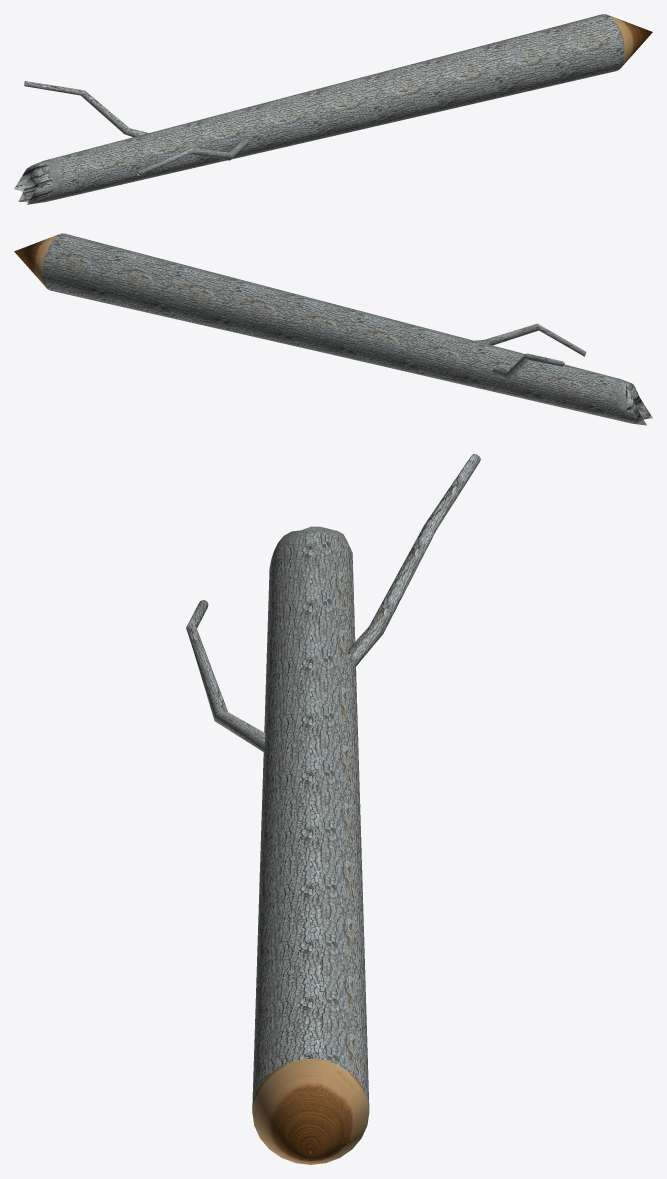
The model's file is stamm.fbx.
The picture shows the model from 3 angles, top to bottom: view 1: azimuth 30°, elevation 25°; view 2: azimuth 150°, elevation 25°; view 3: azimuth 270°, elevation 25°; orthographic projection. The views are drawn at different scales.
Visible parts, largest first — view 1: Cylinder; view 2: Cylinder; view 3: Cylinder.
Part boxes in pixels (x1=…): Cylinder: x1=14, y1=14, x2=652, y2=204; Cylinder: x1=14, y1=233, x2=652, y2=425; Cylinder: x1=186, y1=454, x2=480, y2=1164.
Bounding box in the file's own units: 1363 × 186 × 275.
2 materials, 2 textured.
